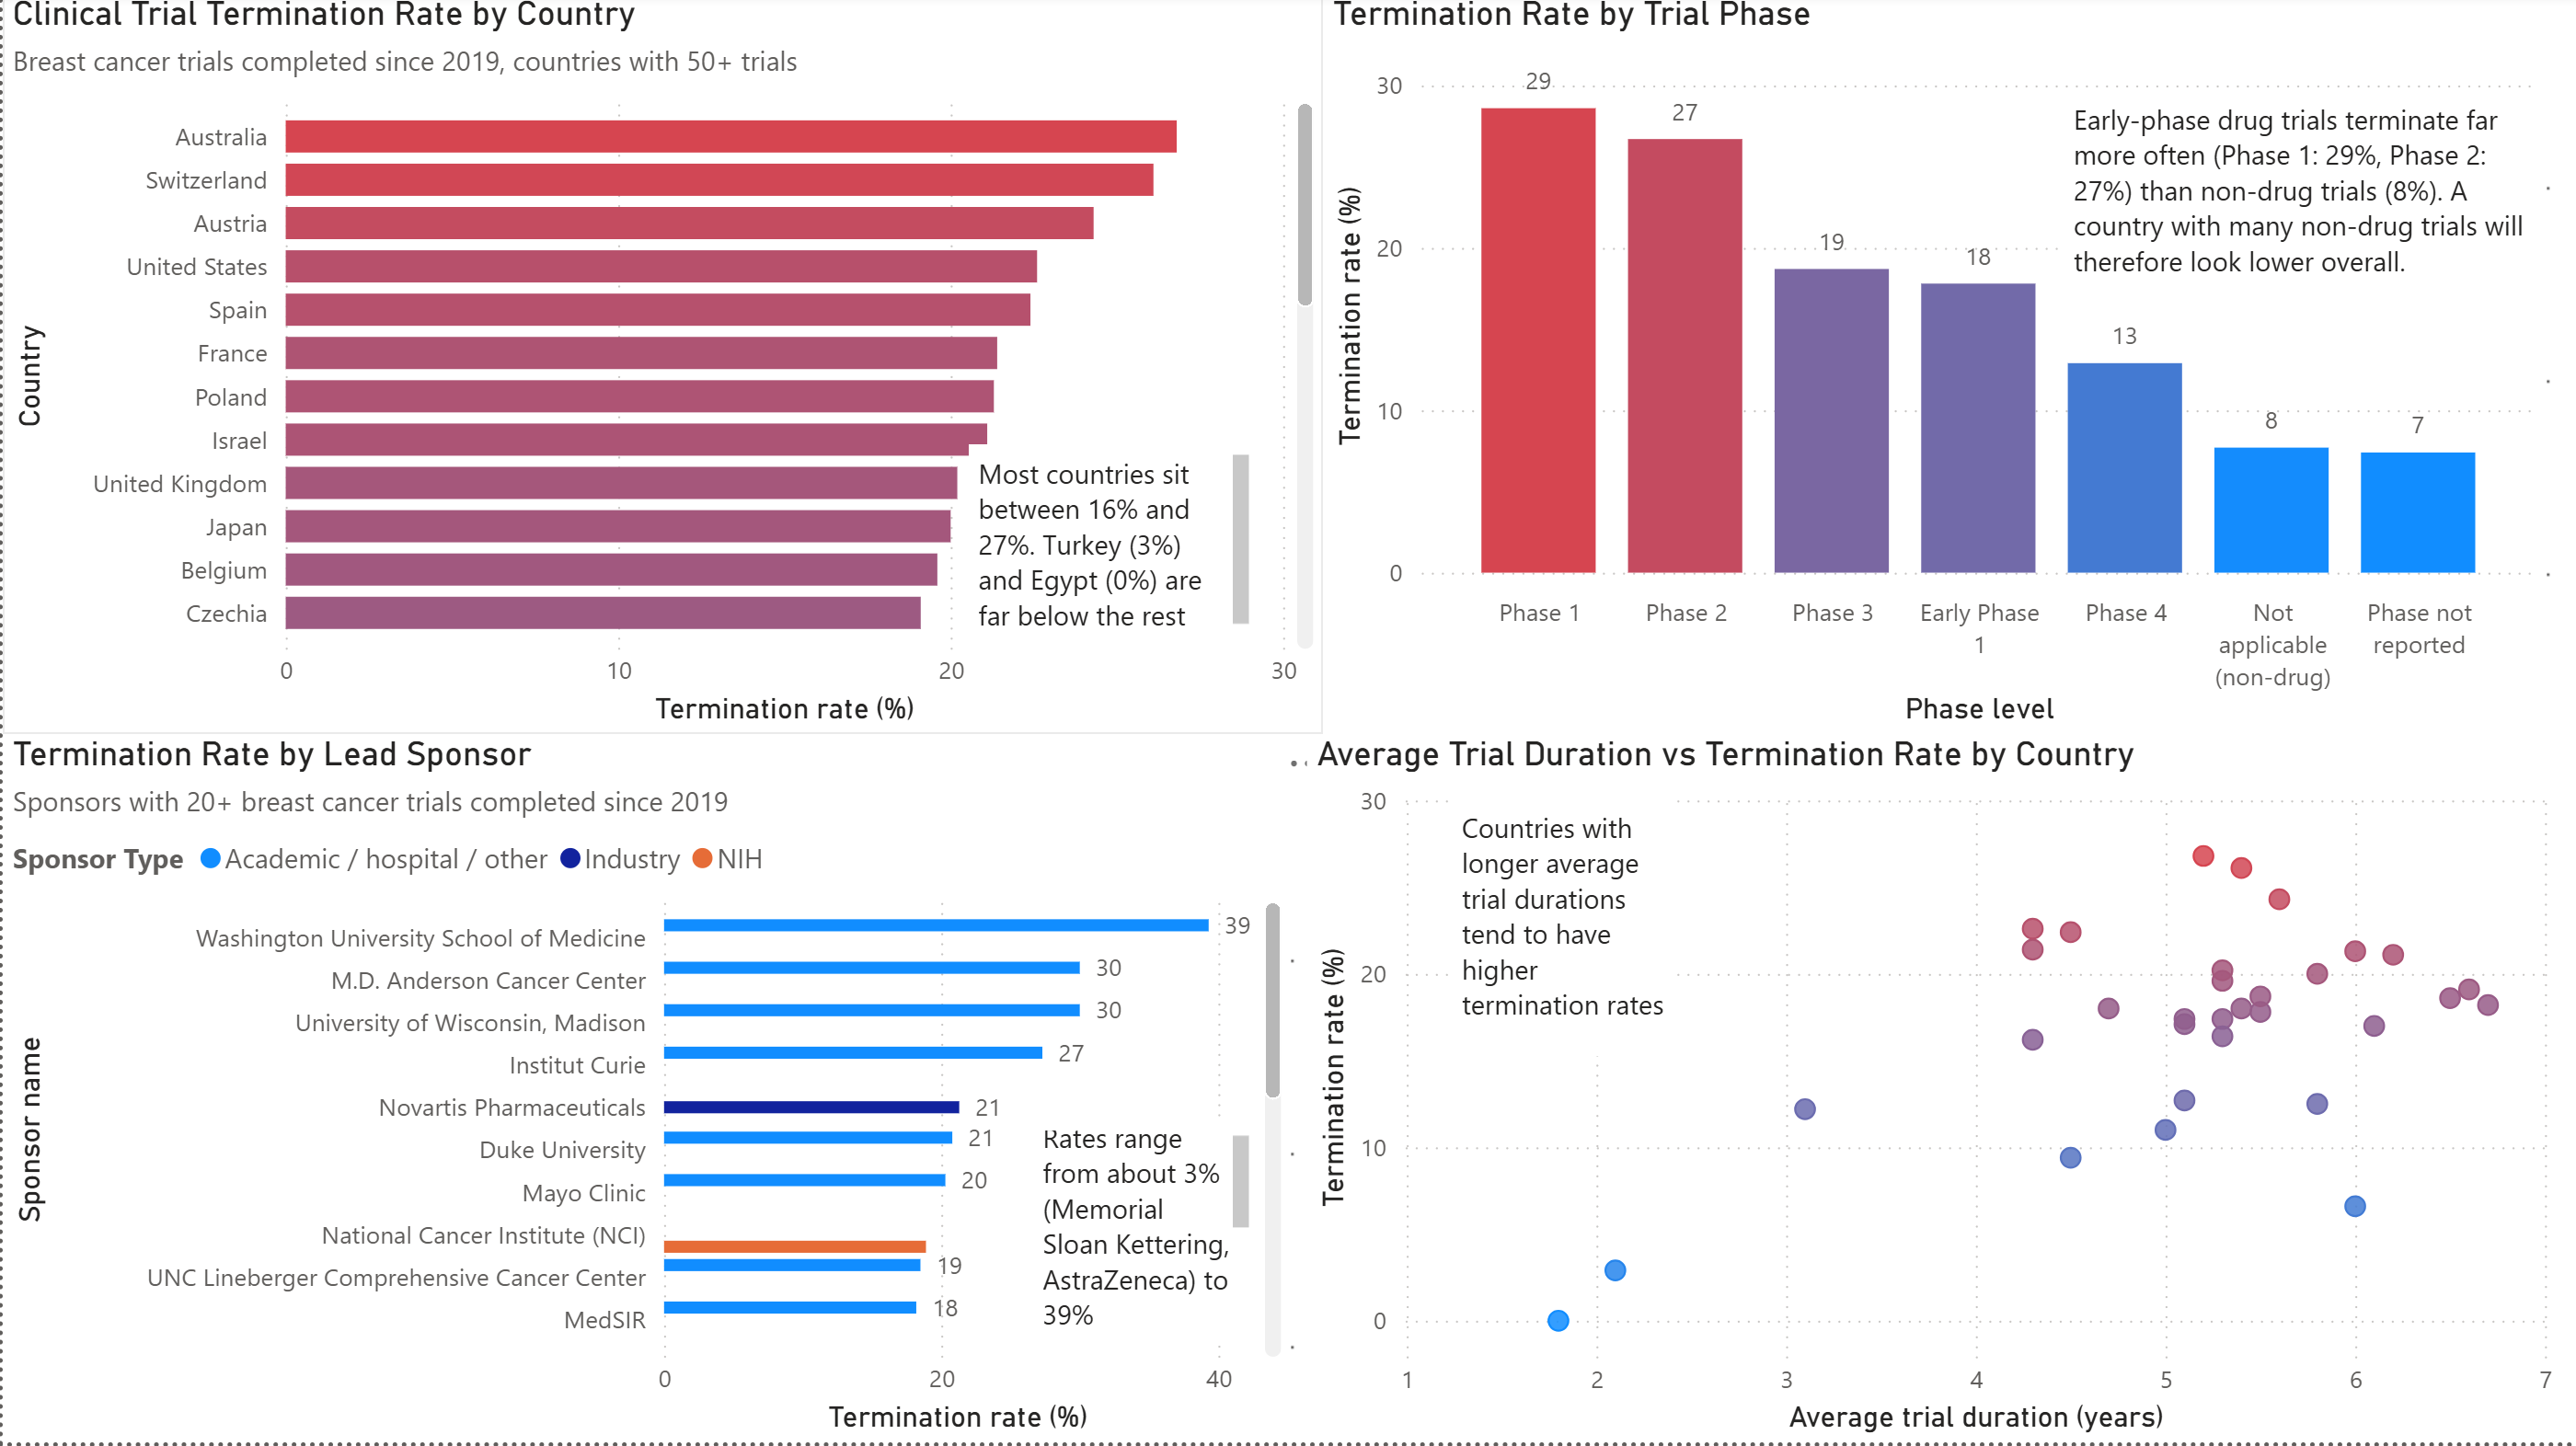

Layout of this report page (visuals, bound fields, positions):
{"tool":"powerbi","page":{"name":"Page 1","canvas":[1280,720],"ordinal":0},"visuals":[{"type":"clusteredBarChart","title":"Clinical Trial Termination Rate by Country","fields":{"Category":["country_trial_summary.country"],"Y":["Sum(country_trial_summary.termination_rate)"]},"box":[0,0,656,368],"z":0},{"type":"textbox","box":[480,224,144,96],"z":1000},{"type":"clusteredBarChart","title":"Termination Rate by Lead Sponsor","fields":{"Category":["sponsor_trial_summary.sponsor_name"],"Y":["Sum(sponsor_trial_summary.termination_rate)"],"Series":["sponsor_trial_summary.sponsor_type"]},"box":[0,368,640,352],"z":2000},{"type":"clusteredColumnChart","title":"Termination Rate by Trial Phase","fields":{"Category":["phase_trial_summary.phase_label"],"Y":["Sum(phase_trial_summary.termination_rate)"]},"box":[656,0,608,368],"z":3000},{"type":"scatterChart","title":"Average Trial Duration vs Termination Rate by Country","fields":{"X":["Sum(country_duration_vs_termination.avg_duration_years)"],"Y":["Sum(country_duration_vs_termination.termination_rate)"],"Category":["country_duration_vs_termination.country"]},"box":[648,368,624,352],"z":4000},{"type":"textbox","box":[1024,48,240,112],"z":5000},{"type":"textbox","box":[512,560,112,112],"z":6000},{"type":"textbox","box":[720,400,112,128],"z":6001}]}

Visuals, with their boxes in screenshot pixels (x1, y1, x2, y2), scaled from the page's 1280x720 canvas onto the 2576x1446 screenshot:
"Clinical Trial Termination Rate by Country" clusteredBarChart: rect(0, 0, 1320, 739)
textbox: rect(966, 450, 1256, 643)
"Termination Rate by Lead Sponsor" clusteredBarChart: rect(0, 739, 1288, 1445)
"Termination Rate by Trial Phase" clusteredColumnChart: rect(1320, 0, 2544, 739)
"Average Trial Duration vs Termination Rate by Country" scatterChart: rect(1305, 739, 2559, 1445)
textbox: rect(2061, 97, 2544, 321)
textbox: rect(1030, 1125, 1256, 1349)
textbox: rect(1449, 803, 1674, 1061)
